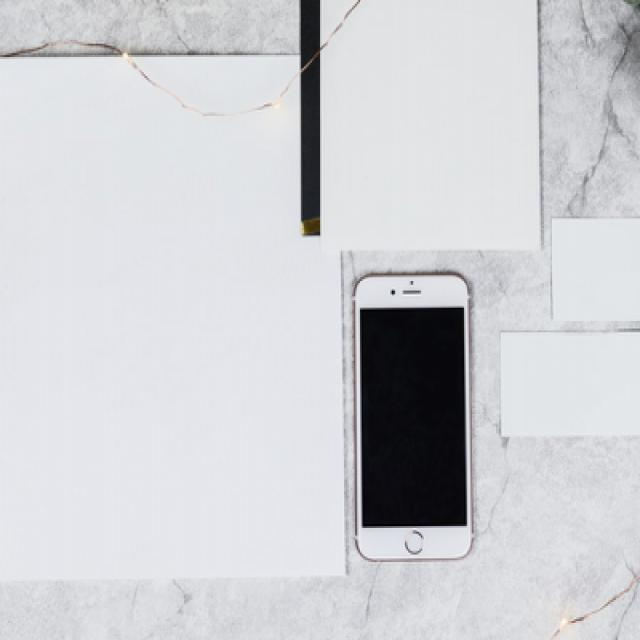cellphone: (352, 272, 474, 562)
